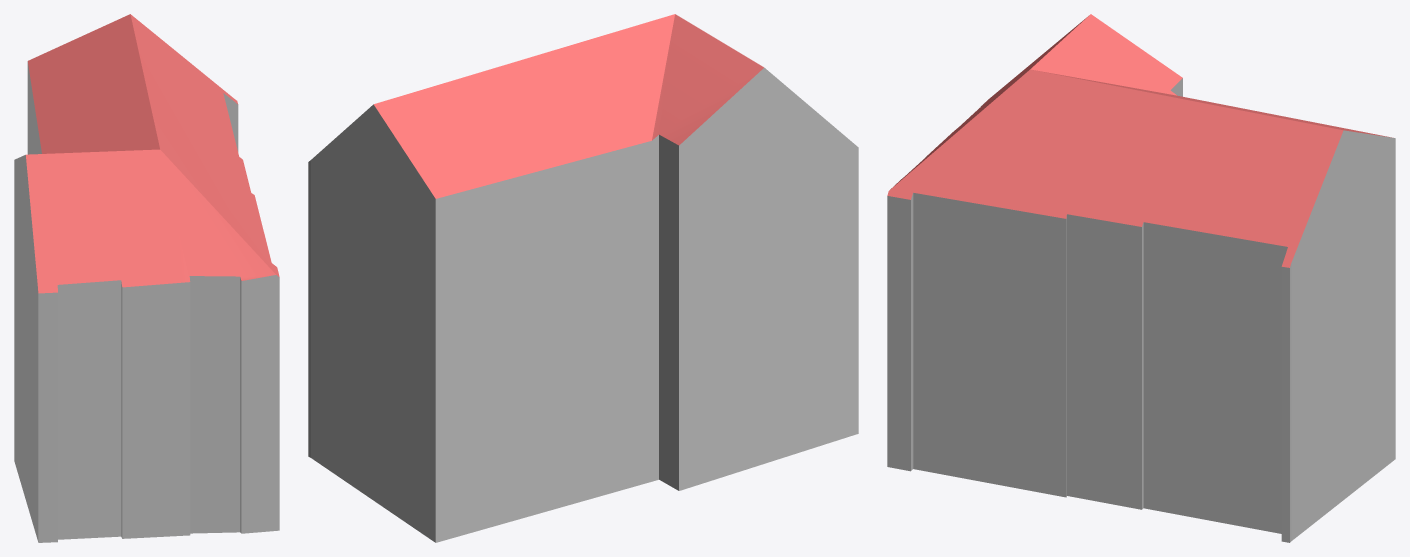
File: DEBY_LOD2_4907184.gltf
The picture shows the model from 3 angles, left to right: view 1: azimuth 30°, elevation 25°; view 2: azimuth 150°, elevation 25°; view 3: azimuth 270°, elevation 25°; orthographic projection. The views are drawn at different scales.
Parts seen in each view (by area): view 1: Z_UP; view 2: Z_UP; view 3: Z_UP.
Part boxes in pixels (x1=…): Z_UP: x1=14, y1=14, x2=279, y2=542; Z_UP: x1=308, y1=14, x2=858, y2=542; Z_UP: x1=887, y1=14, x2=1395, y2=542.
Size of the model in its own units: 23.76 by 23.12 by 28.79.
